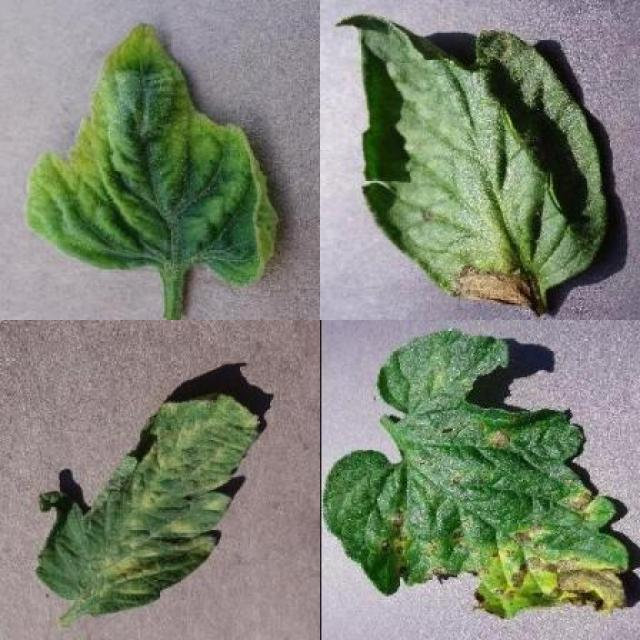Late Blight: (336, 11, 610, 316)
Leaf Mold: (35, 394, 264, 616)
Septoria: (320, 329, 631, 616)
Yellow Leaf Curl Virus: (25, 22, 278, 288)
